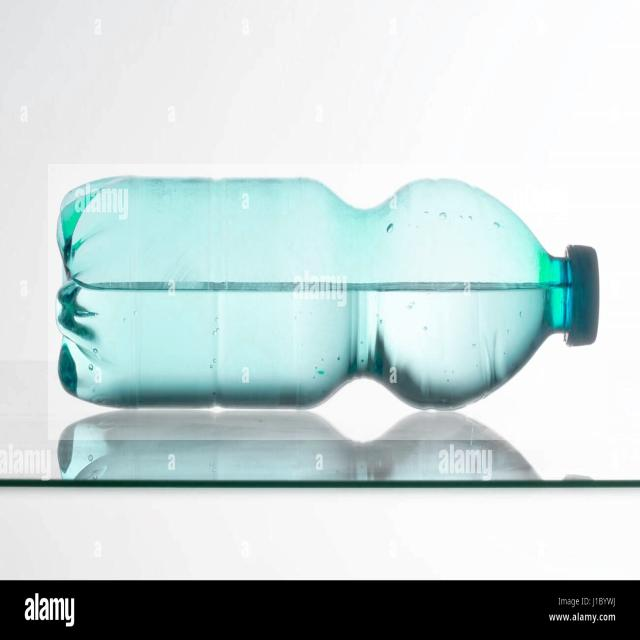half-bottle: (48, 164, 606, 440)
